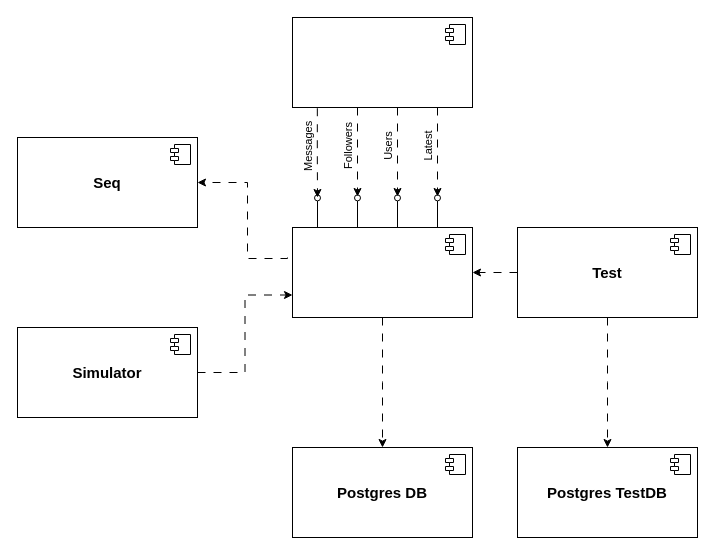
Image size: 715x555. Some labels were removed from this diagram. The centre of each missing label's shape, as x and y in pixels:
API: the point at 382,272
Client: the point at 382,62
